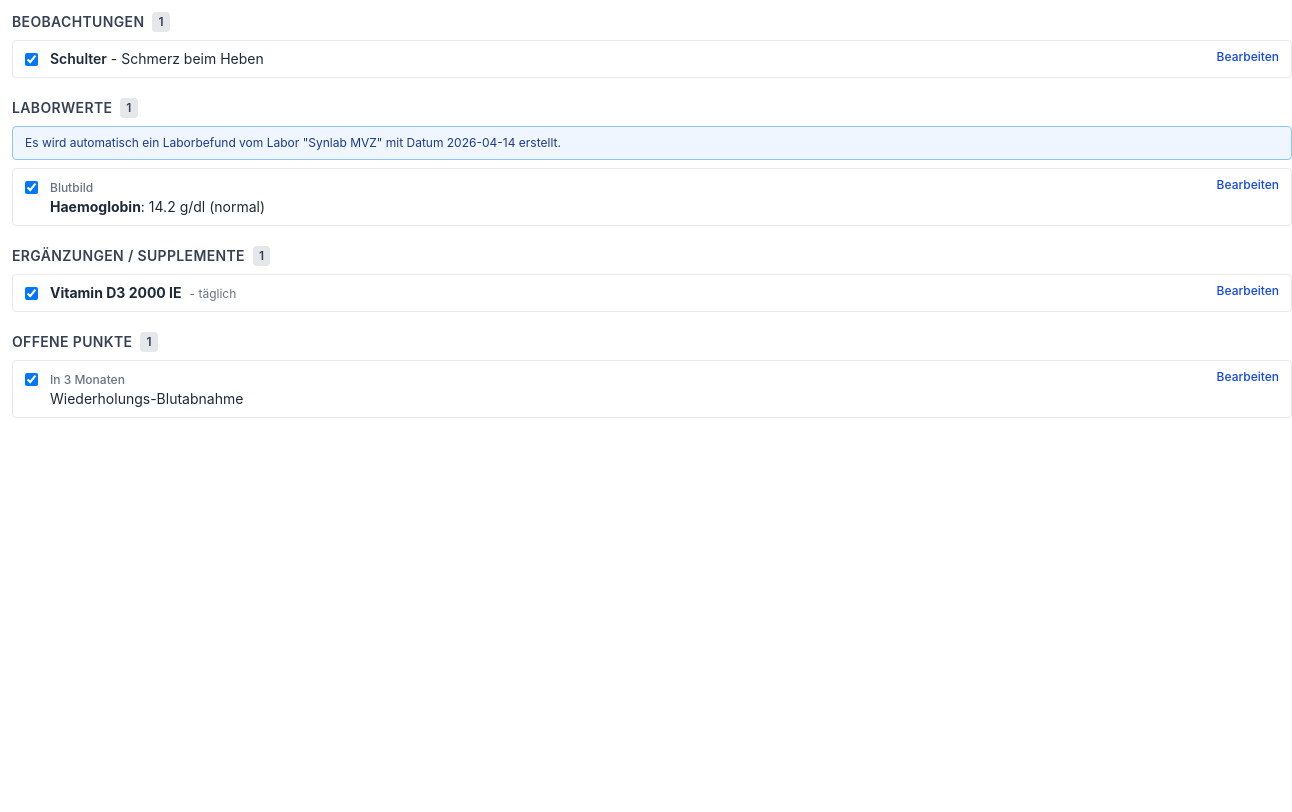
Scenario: ReviewPanel › reveals editor on Bearbeiten and hides on Fertig
The image size is (1292, 812).
Expected: the text "Thema" is not shown
Click the button "Bearbeiten" in the row of "Schmerz beim Heben". click: (1248, 57)
box: left=1217, top=49, right=1279, bottom=65
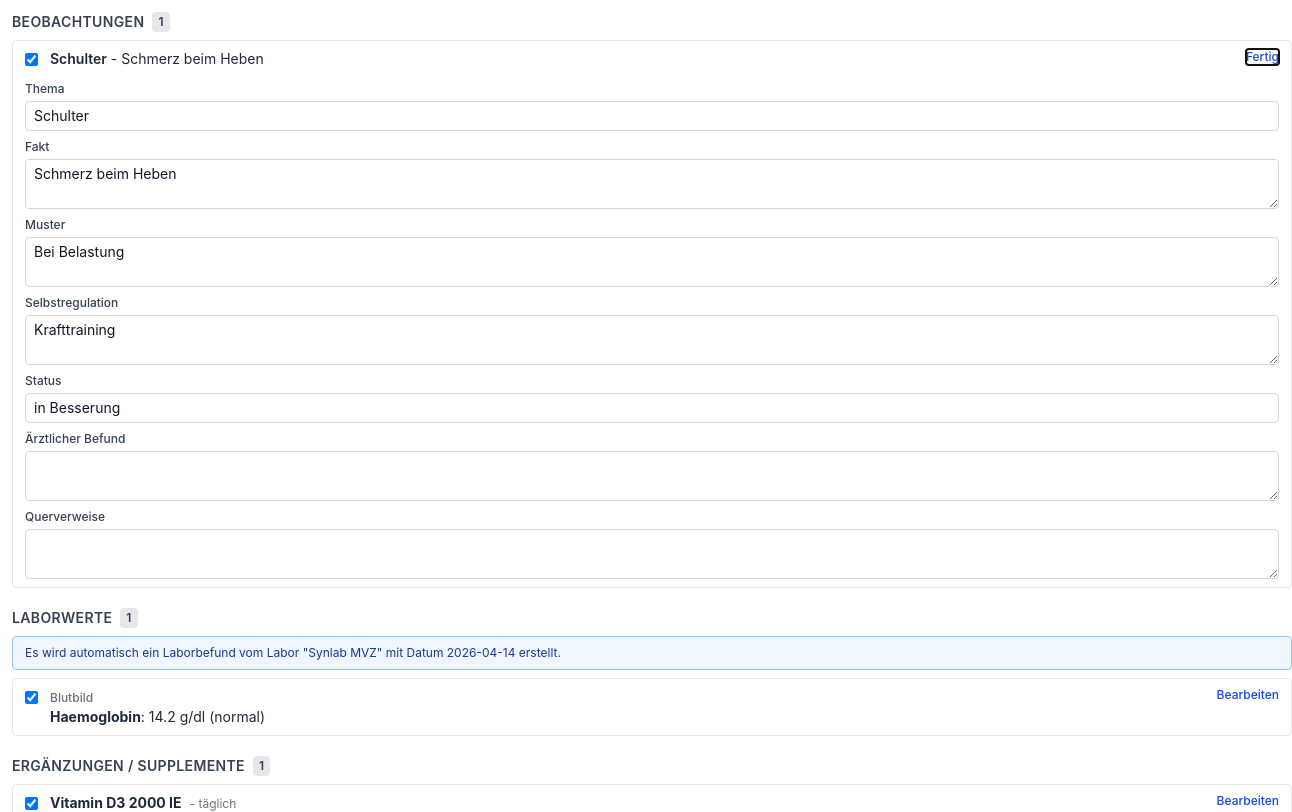
Expected: the text "Thema" is shown, left=25, top=81, right=65, bottom=96
Click the button "Fertig". click: (1262, 57)
box: left=1246, top=49, right=1279, bottom=65
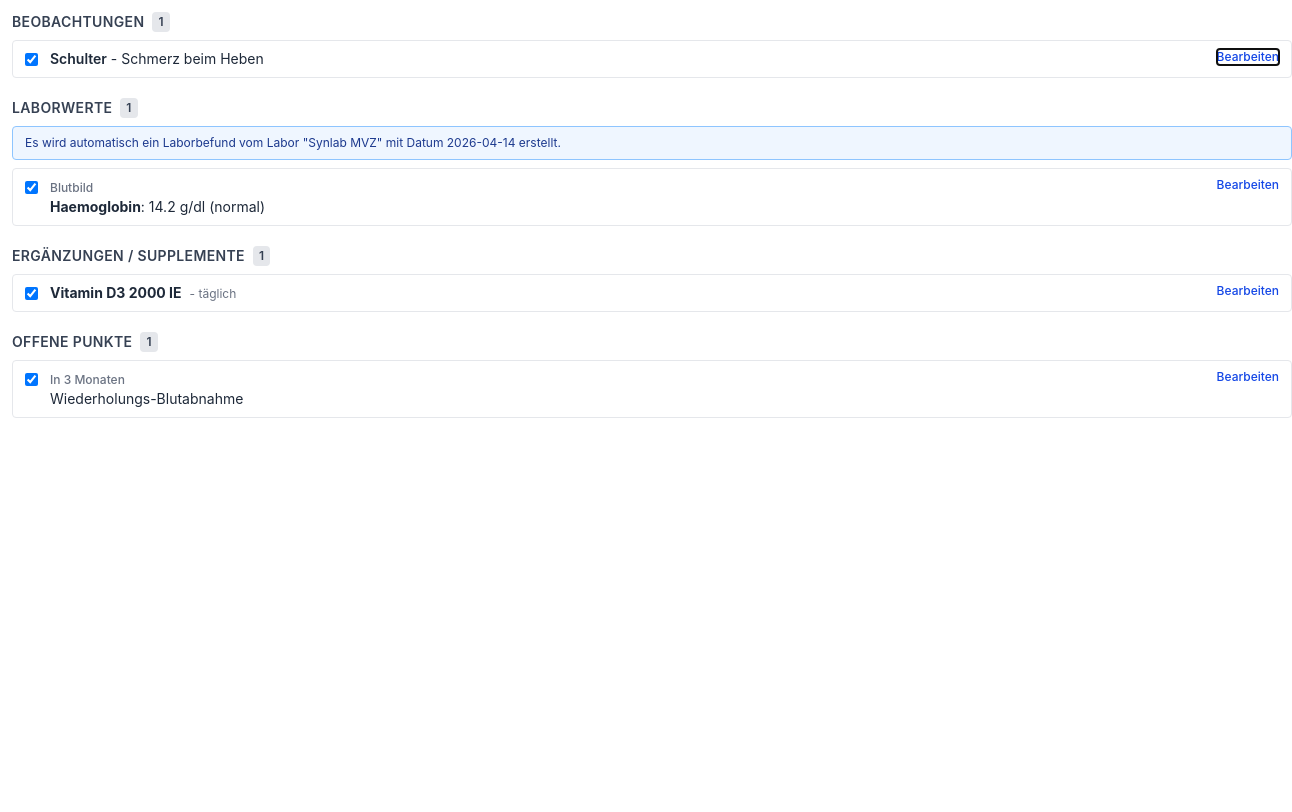
Expected: the text "Thema" is gone
